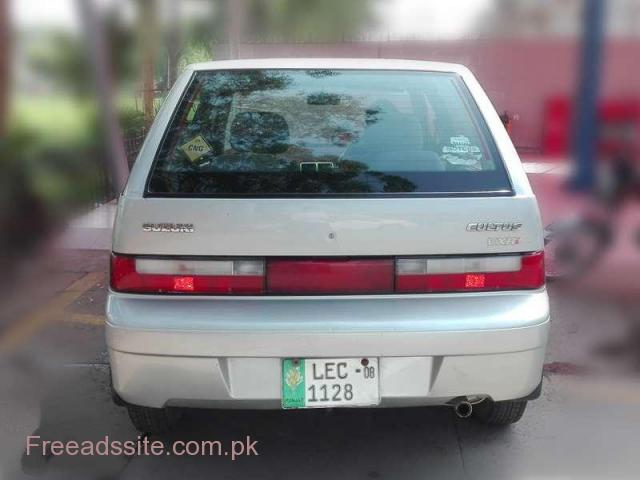plate: (279, 355, 383, 412)
